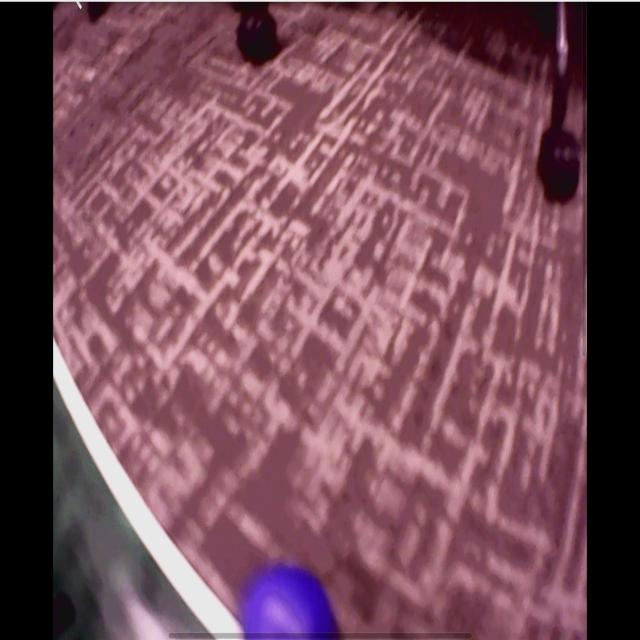ball: (242, 566, 336, 640)
